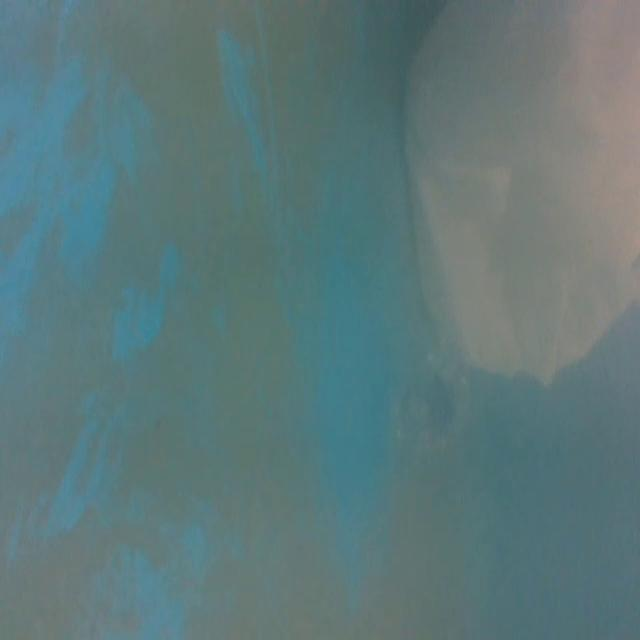plastic bags: (409, 0, 640, 376)
